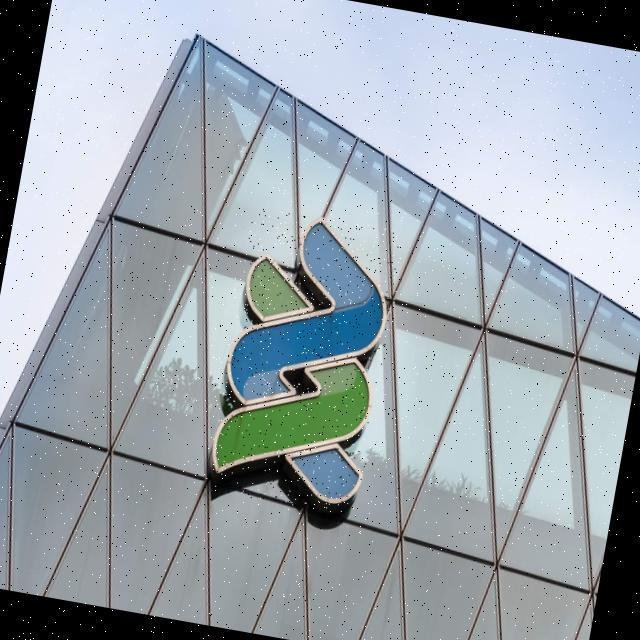Standard Chartered: (204, 205, 407, 516)
